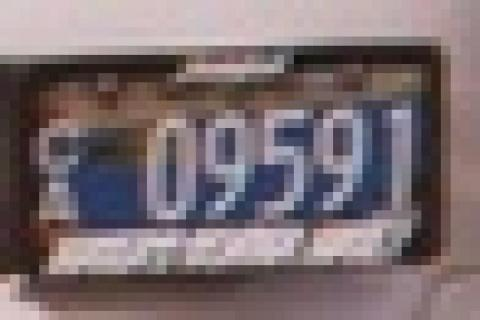LicensePlate: (11, 35, 464, 281)
